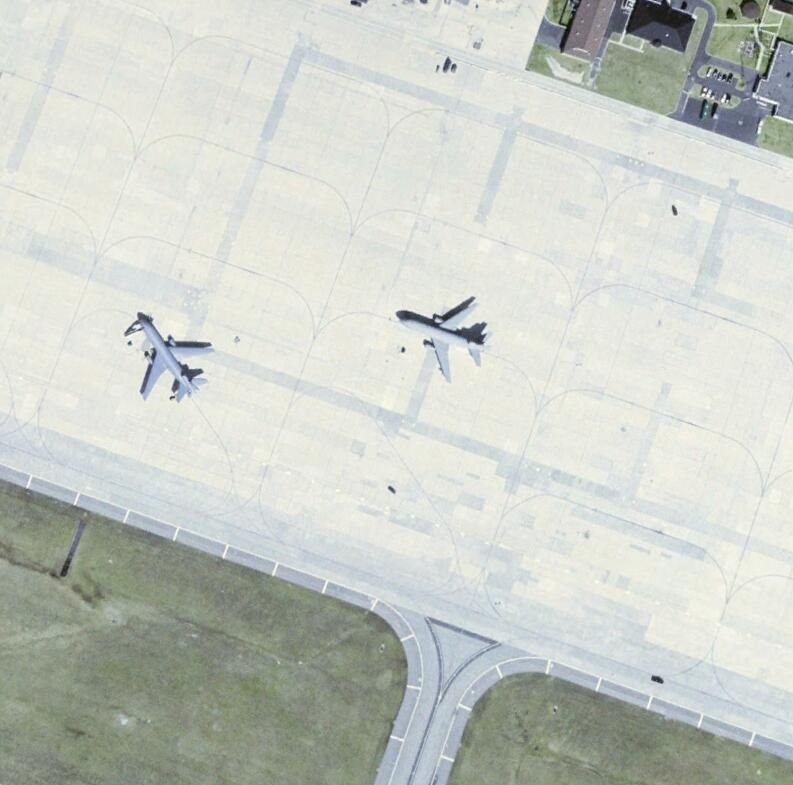A18: (397, 299, 493, 387), (134, 312, 218, 406)
